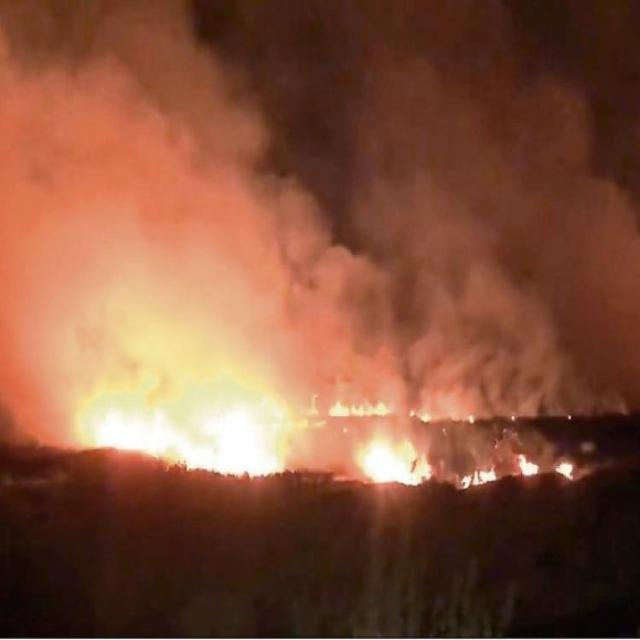Fire: (79, 350, 442, 480)
Smoke: (22, 17, 620, 340)
